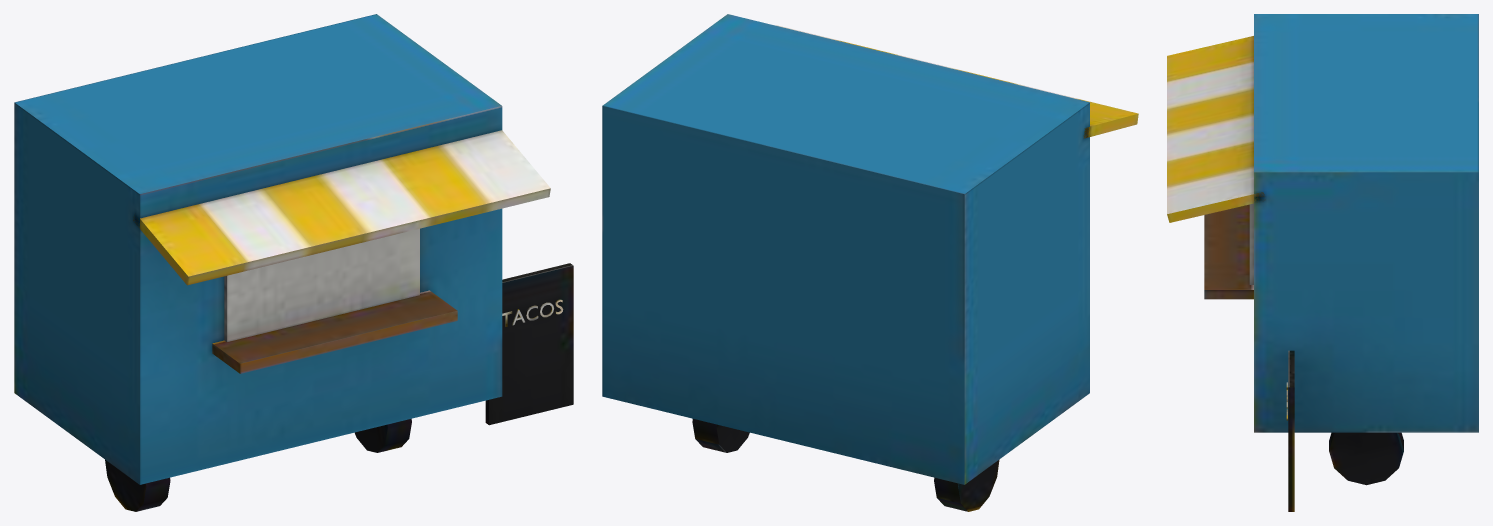
File: carrito_comida.glb
The picture shows the model from 3 angles, left to right: view 1: azimuth 30°, elevation 25°; view 2: azimuth 150°, elevation 25°; view 3: azimuth 270°, elevation 25°; orthographic projection. The views are drawn at different scales.
Parts seen in each view (by area): view 1: carrito_comida; view 2: carrito_comida; view 3: carrito_comida.
Part boxes in pixels (<box>): carrito_comida: <box>14,14,573,511</box>; carrito_comida: <box>602,14,1138,511</box>; carrito_comida: <box>1167,14,1478,511</box>.
Bounding box in the file's own units: 3.75 × 2.95 × 2.5.
Materials: 1 (1 with a texture image).
